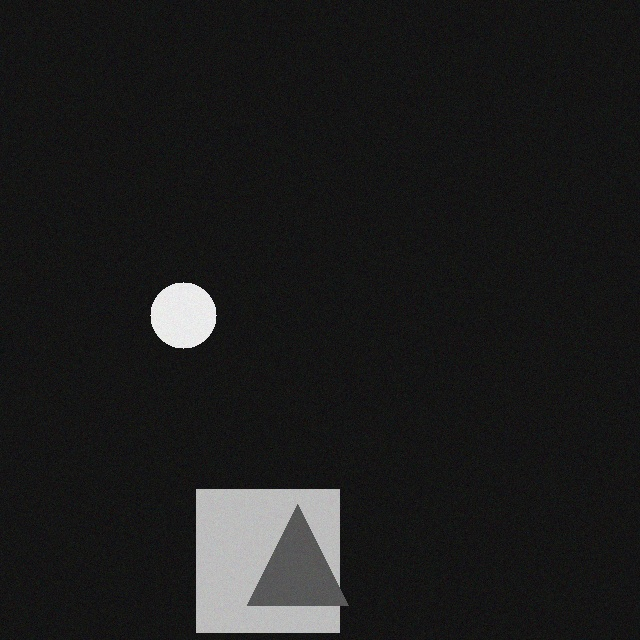circle: (151, 267, 217, 333)
square: (197, 474, 340, 617)
triangle: (248, 489, 349, 590)
